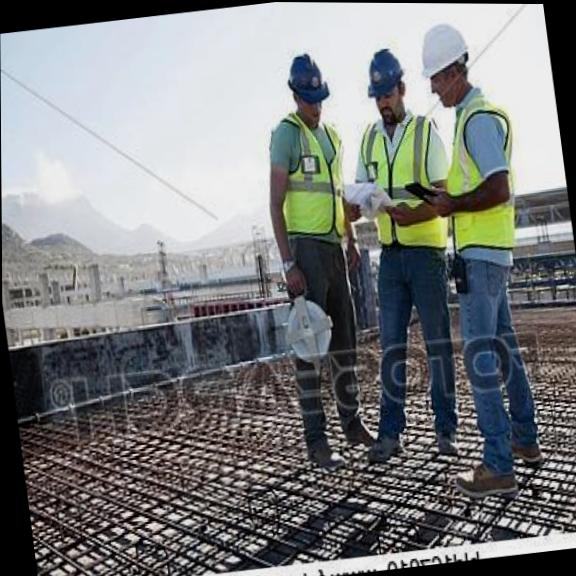safety_vest: (434, 90, 525, 267), (358, 113, 444, 257), (272, 123, 350, 240)
